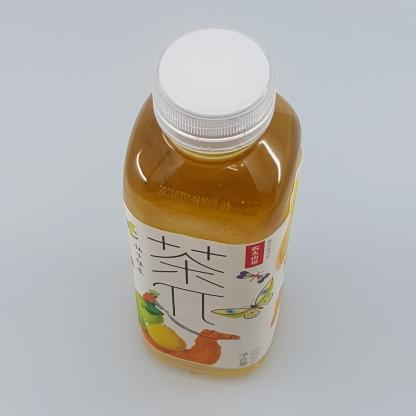------------: (122, 28, 302, 377)
